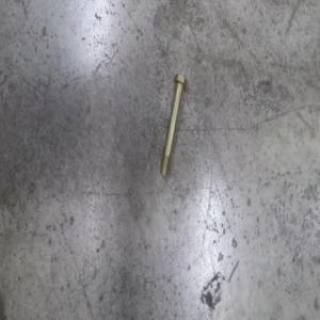Bolttrack_idkeyframe: (158, 70, 186, 178)
